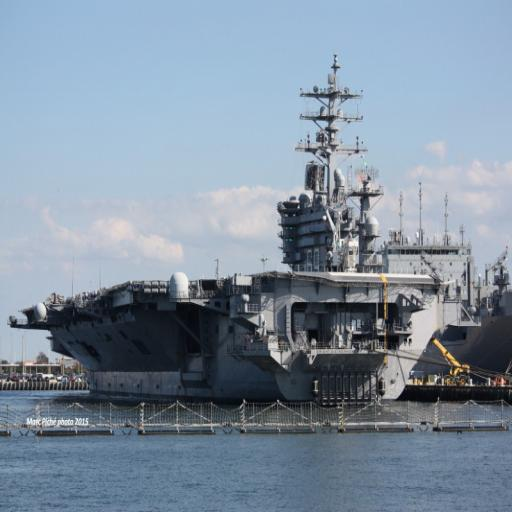Portanaves: (10, 43, 475, 414)
